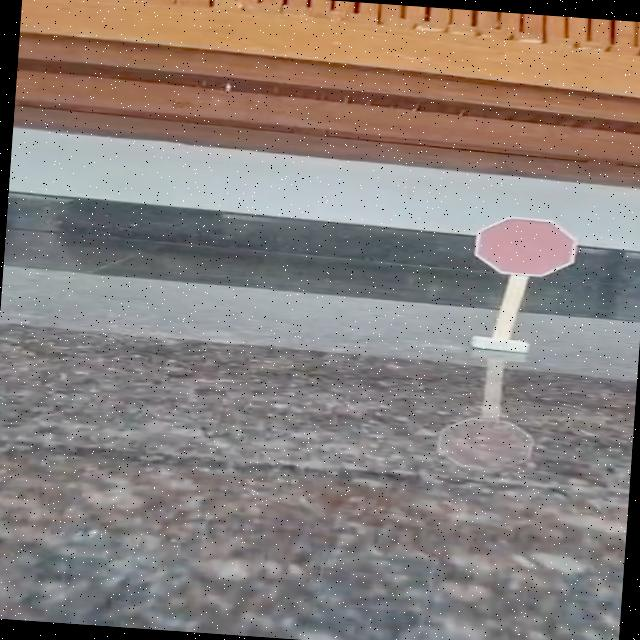Stop: (462, 202, 594, 292)
